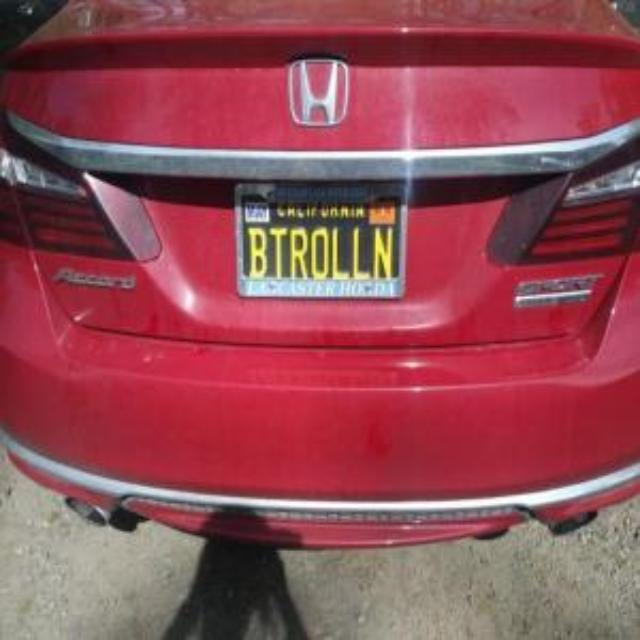License Plate: (233, 183, 410, 300)
